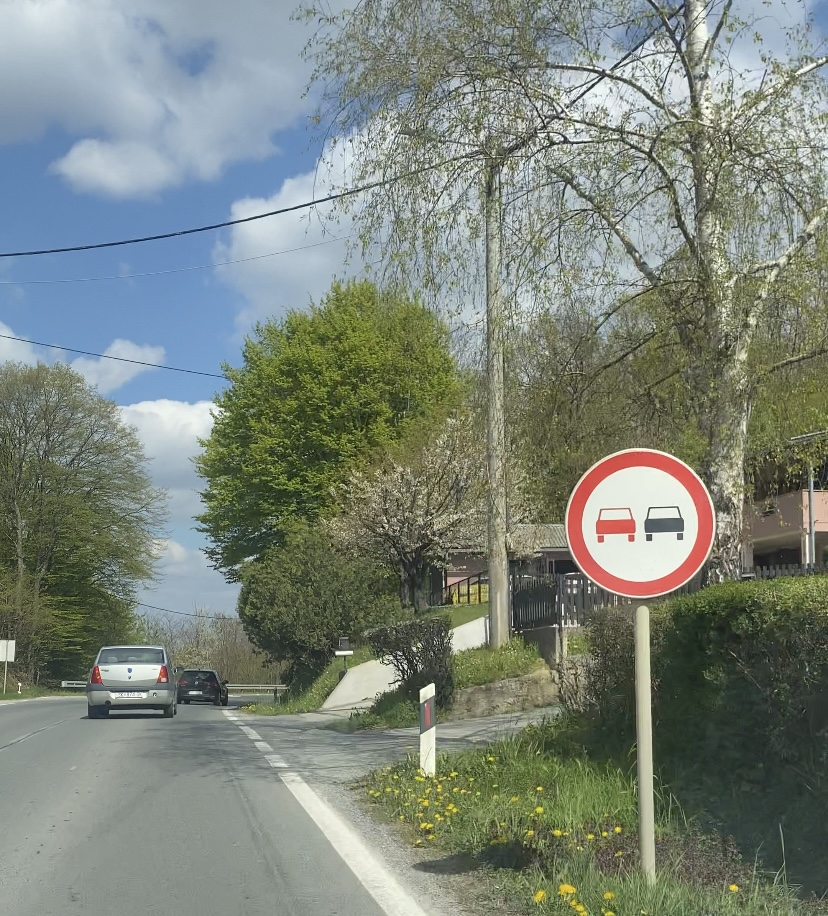Zabrana pretjecanja: (564, 448, 716, 598)
